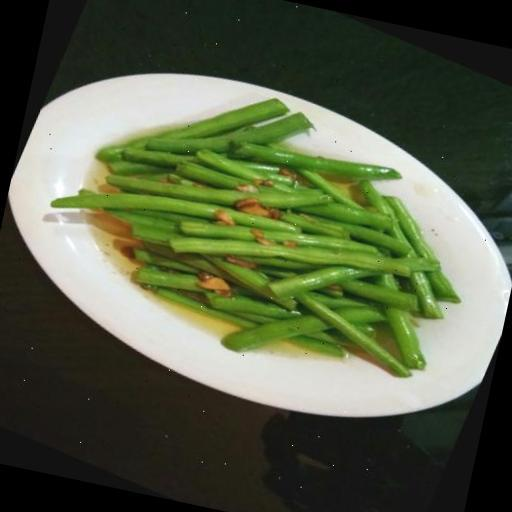buncis_rebus: (0, 8, 512, 443)
